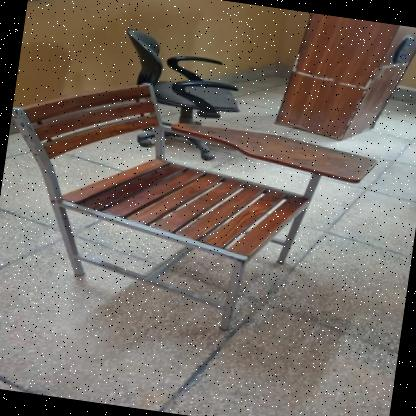chair: (0, 58, 381, 352), (102, 19, 251, 167)
